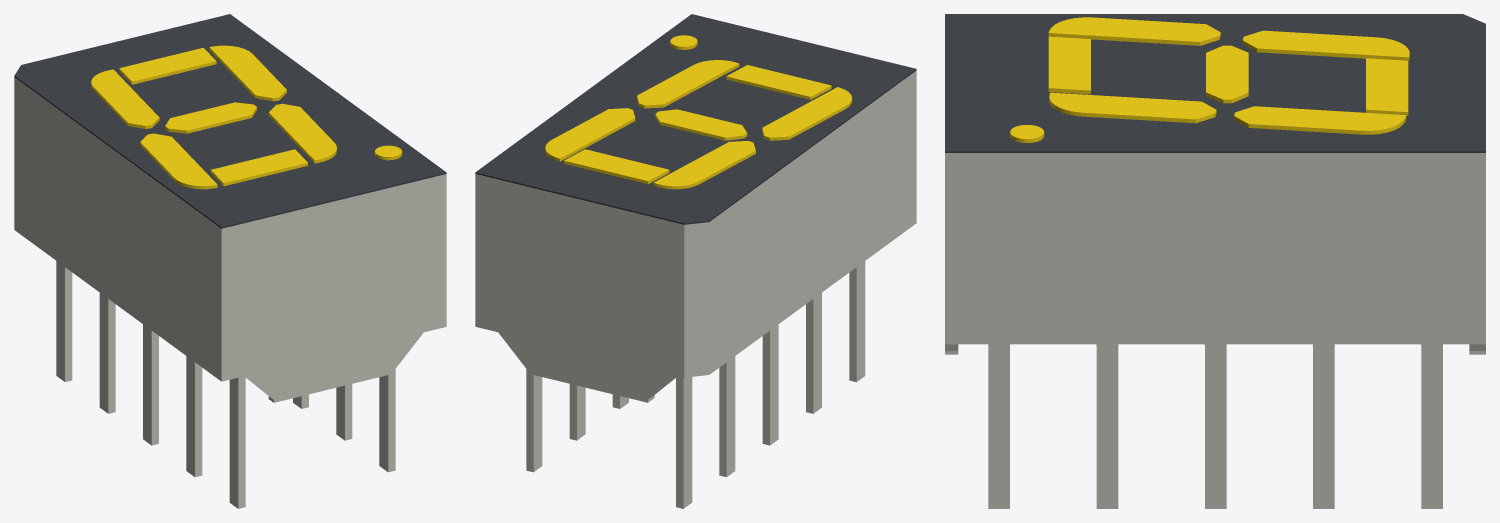
Rendered from kc-hdsp-7401.glb.
The picture shows the model from 3 angles, left to right: view 1: azimuth 30°, elevation 25°; view 2: azimuth 150°, elevation 25°; view 3: azimuth 270°, elevation 25°; orthographic projection. The views are drawn at different scales.
Visible parts, largest first — view 1: 0.6666666666666666_0.6666666666666666_0.5833333333333334_0.8, 0.08333333333333333_0.08333333333333333_0.08333333333333333_, 0.9166666666666666_0.6666666666666666_0_0; view 2: 0.6666666666666666_0.6666666666666666_0.5833333333333334_0.8, 0.08333333333333333_0.08333333333333333_0.08333333333333333_, 0.9166666666666666_0.6666666666666666_0_0; view 3: 0.6666666666666666_0.6666666666666666_0.5833333333333334_0.8, 0.08333333333333333_0.08333333333333333_0.08333333333333333_, 0.9166666666666666_0.6666666666666666_0_0.
Boxes of the visible parts, x1=… form: 0.6666666666666666_0.6666666666666666_0.5833333333333334_0.8: x1=14, y1=77, x2=446, y2=508; 0.08333333333333333_0.08333333333333333_0.08333333333333333_: x1=14, y1=14, x2=446, y2=228; 0.9166666666666666_0.6666666666666666_0_0: x1=91, y1=45, x2=402, y2=189; 0.6666666666666666_0.6666666666666666_0.5833333333333334_0.8: x1=475, y1=70, x2=916, y2=508; 0.08333333333333333_0.08333333333333333_0.08333333333333333_: x1=475, y1=14, x2=916, y2=224; 0.9166666666666666_0.6666666666666666_0_0: x1=545, y1=35, x2=852, y2=189; 0.6666666666666666_0.6666666666666666_0.5833333333333334_0.8: x1=945, y1=153, x2=1485, y2=508; 0.08333333333333333_0.08333333333333333_0.08333333333333333_: x1=945, y1=14, x2=1485, y2=152; 0.9166666666666666_0.6666666666666666_0_0: x1=1010, y1=17, x2=1409, y2=142.
Size of the model in its own units: 0.7621 by 0.99 by 1.27.
